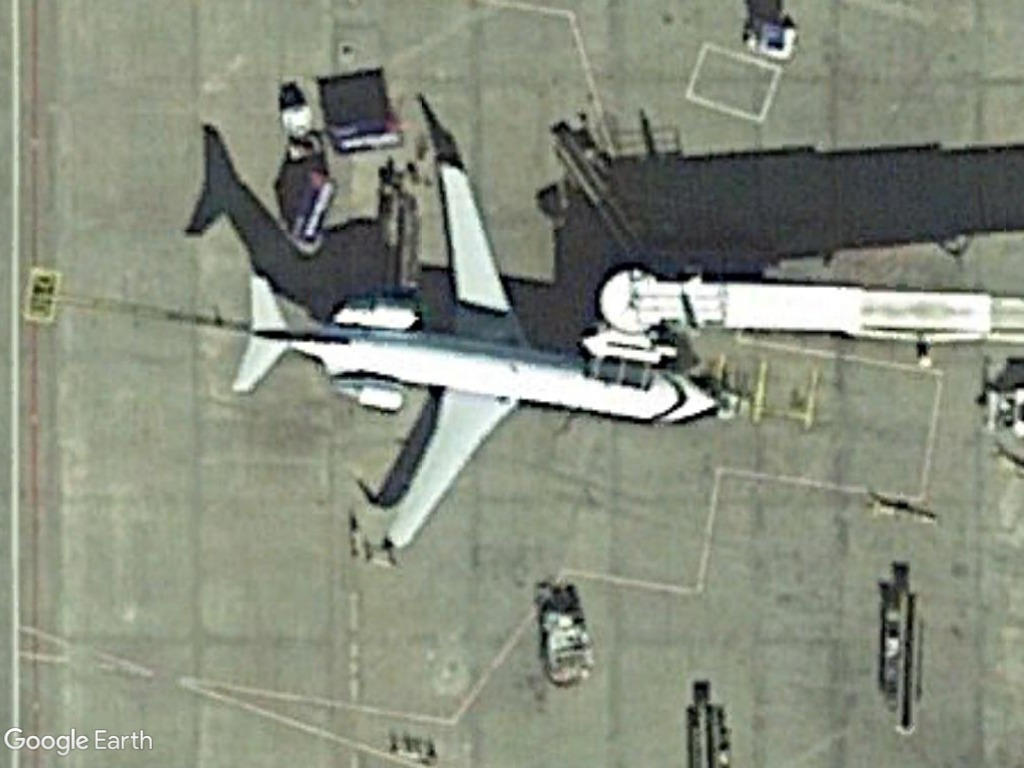chartered: (229, 154, 714, 563)
